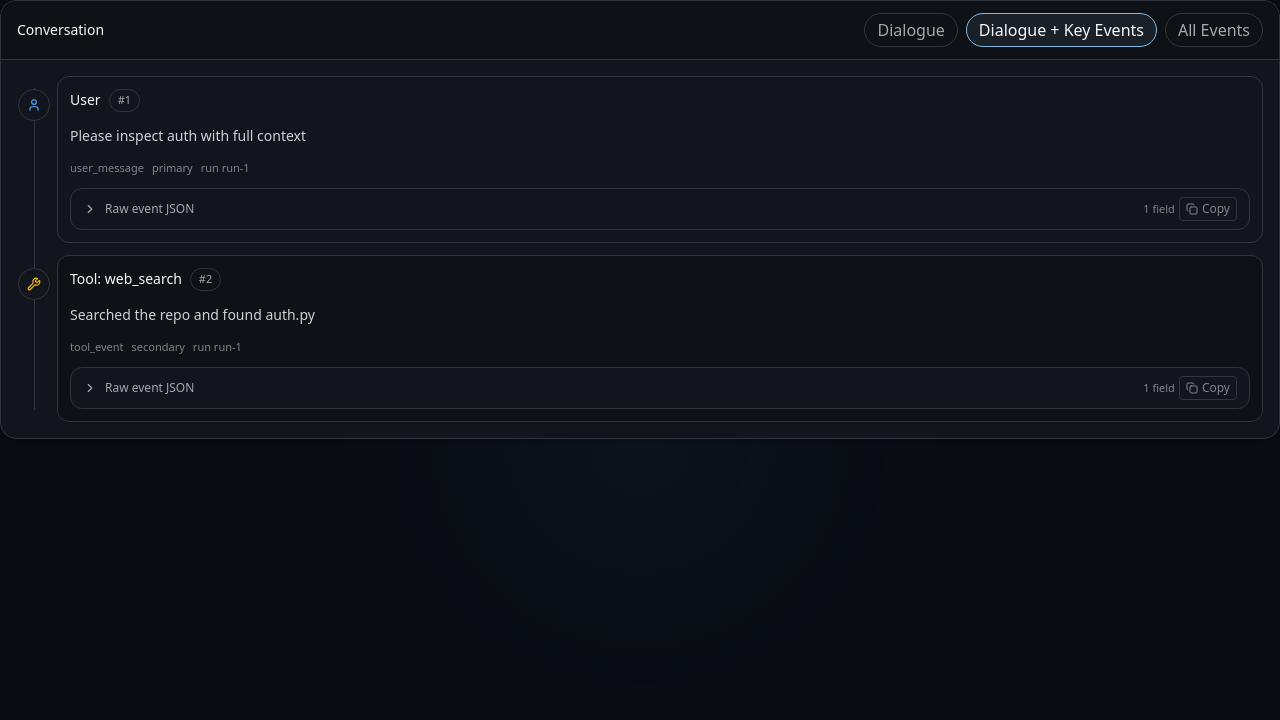
Test: ConversationEventList › filters dialogue, key events, and all events
Expected: the text "Please inspect auth with full context" is shown, [70,126,306,144]
Expected: the text "Searched the repo and found auth.py" is shown, [70,304,315,324]
Click the button "Dialogue" at (911, 30), box [864,13,958,47]
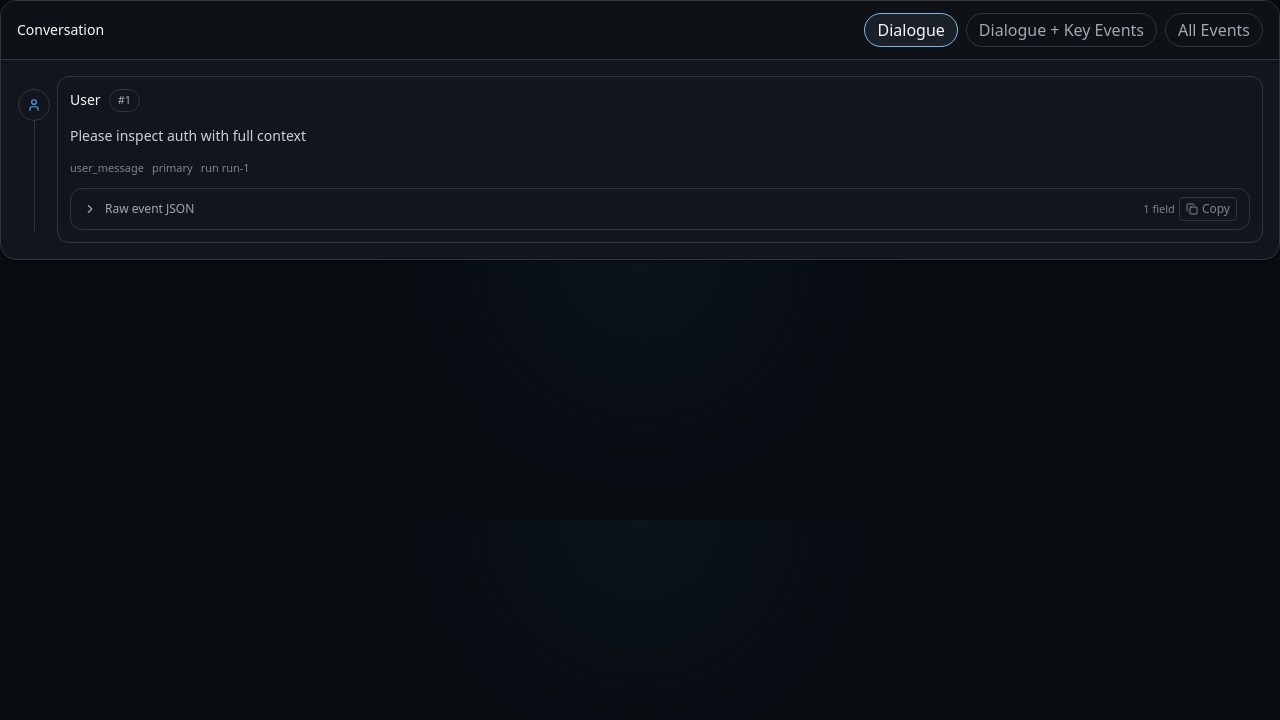
Expected: the text "Please inspect auth with full context" is shown, [70,126,306,144]
Result: the text "Searched the repo and found auth.py" is gone
Click the button "All Events" at (1214, 30), box [1165,13,1263,47]
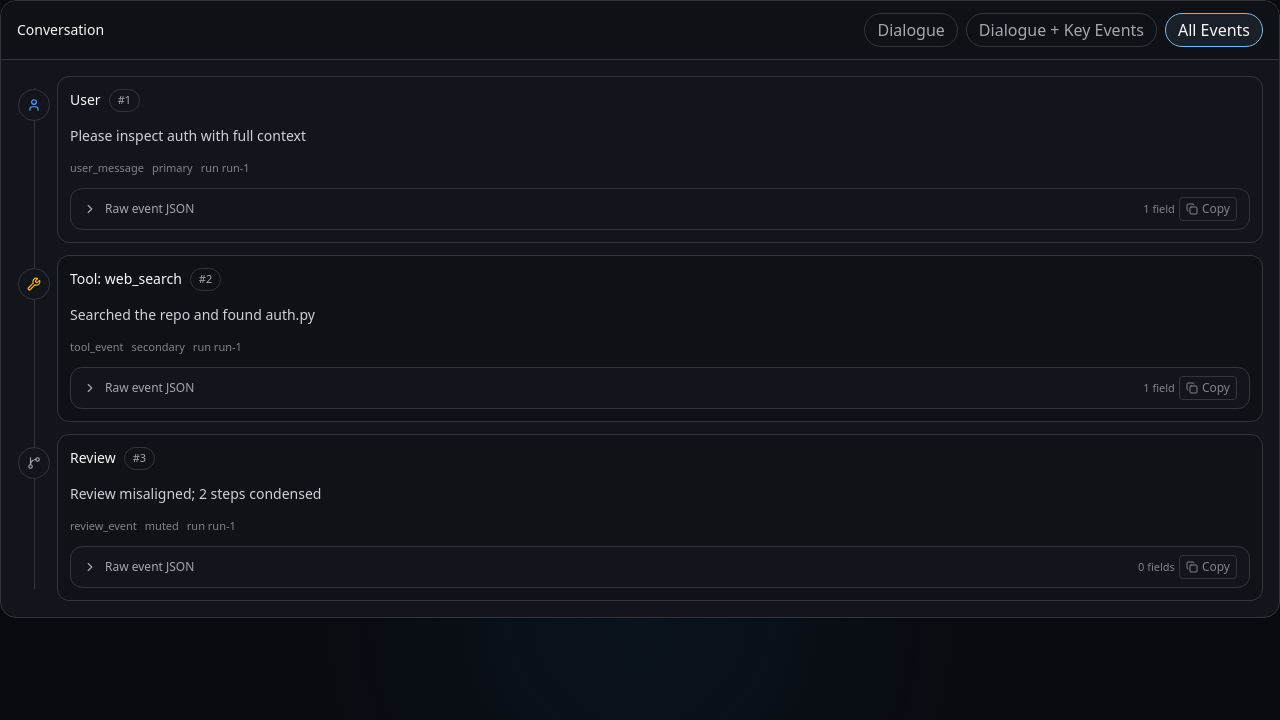
Result: the text "Searched the repo and found auth.py" is shown at [70,304,315,324]
Result: the text "Review misaligned; 2 steps condensed" is shown at [70,484,321,502]
